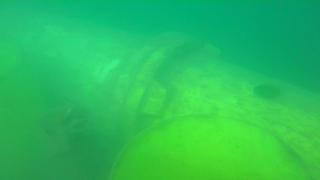pipe: (1, 9, 320, 180), (108, 112, 310, 180), (1, 30, 49, 180)
